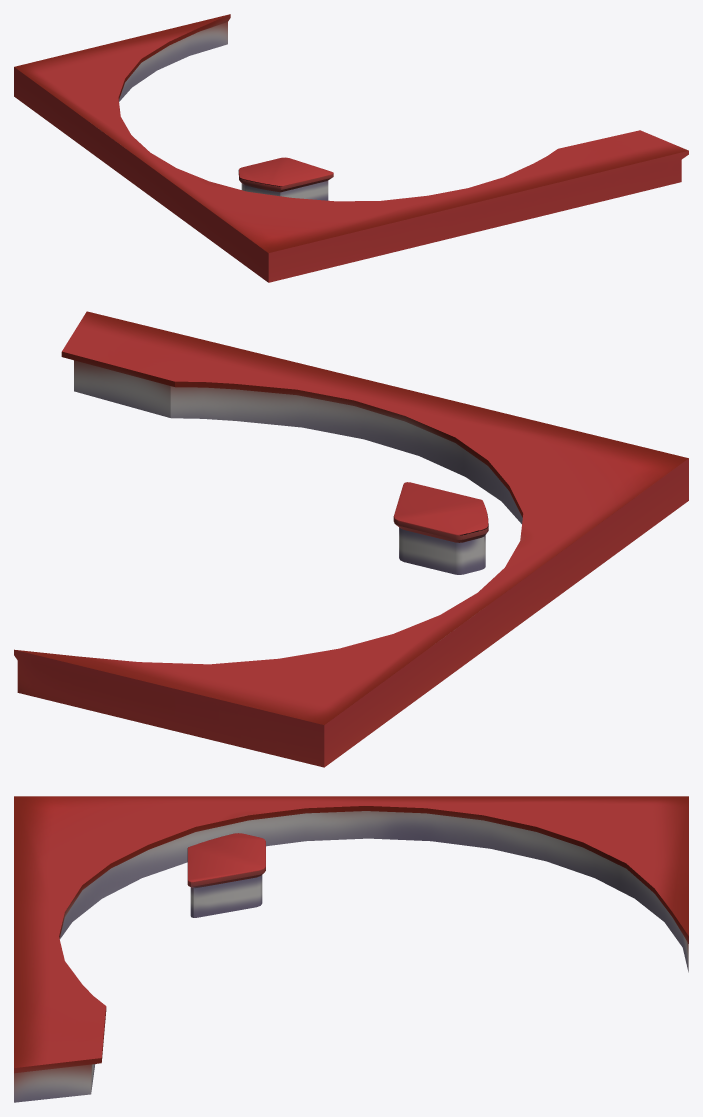
The model's file is boardSet1.obj.
3 views of the same model, one above another, from view 1: azimuth 30°, elevation 25°; view 2: azimuth 150°, elevation 25°; view 3: azimuth 270°, elevation 25° (orthographic). The views are drawn at different scales.
Visible parts, largest first — view 1: Circle.010_Circle.013; view 2: Circle.010_Circle.013; view 3: Circle.010_Circle.013.
Boxes of the visible parts, left/top/right/bottom form: Circle.010_Circle.013: left=14, top=14, right=688, bottom=282; Circle.010_Circle.013: left=14, top=311, right=688, bottom=767; Circle.010_Circle.013: left=14, top=796, right=688, bottom=1102.
Size of the model in its own units: 39.17 by 2.64 by 41.09.
